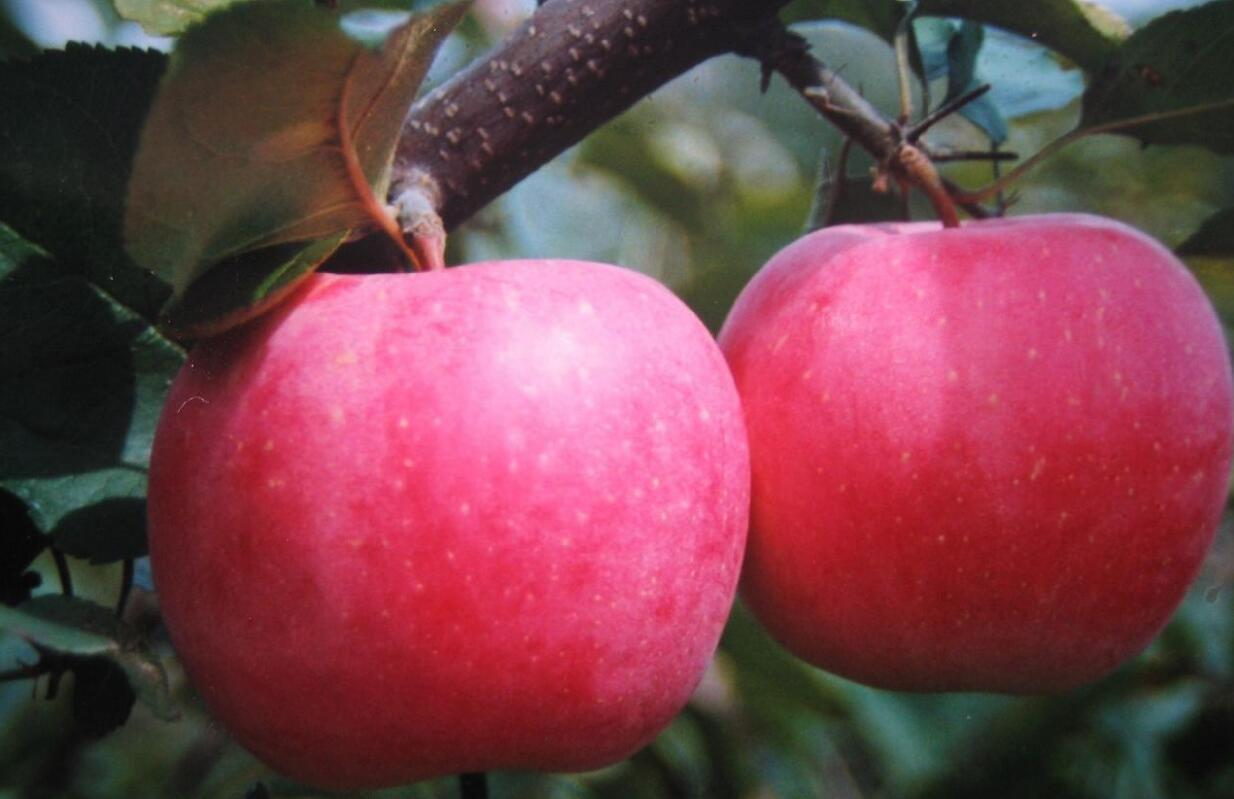apple: (147, 255, 752, 772), (722, 216, 1234, 693)
